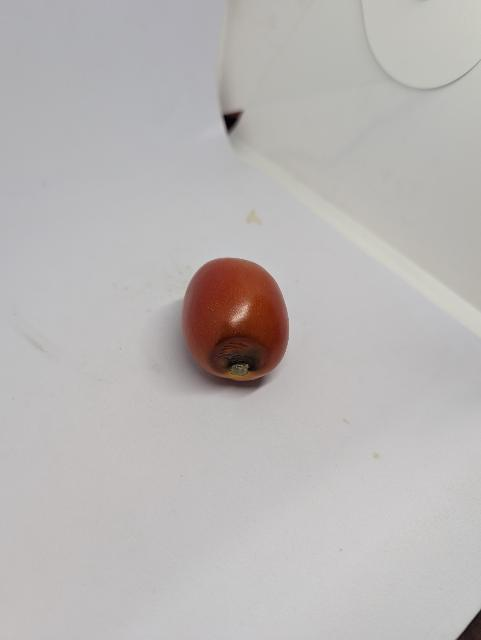defect: (180, 256, 295, 385)
